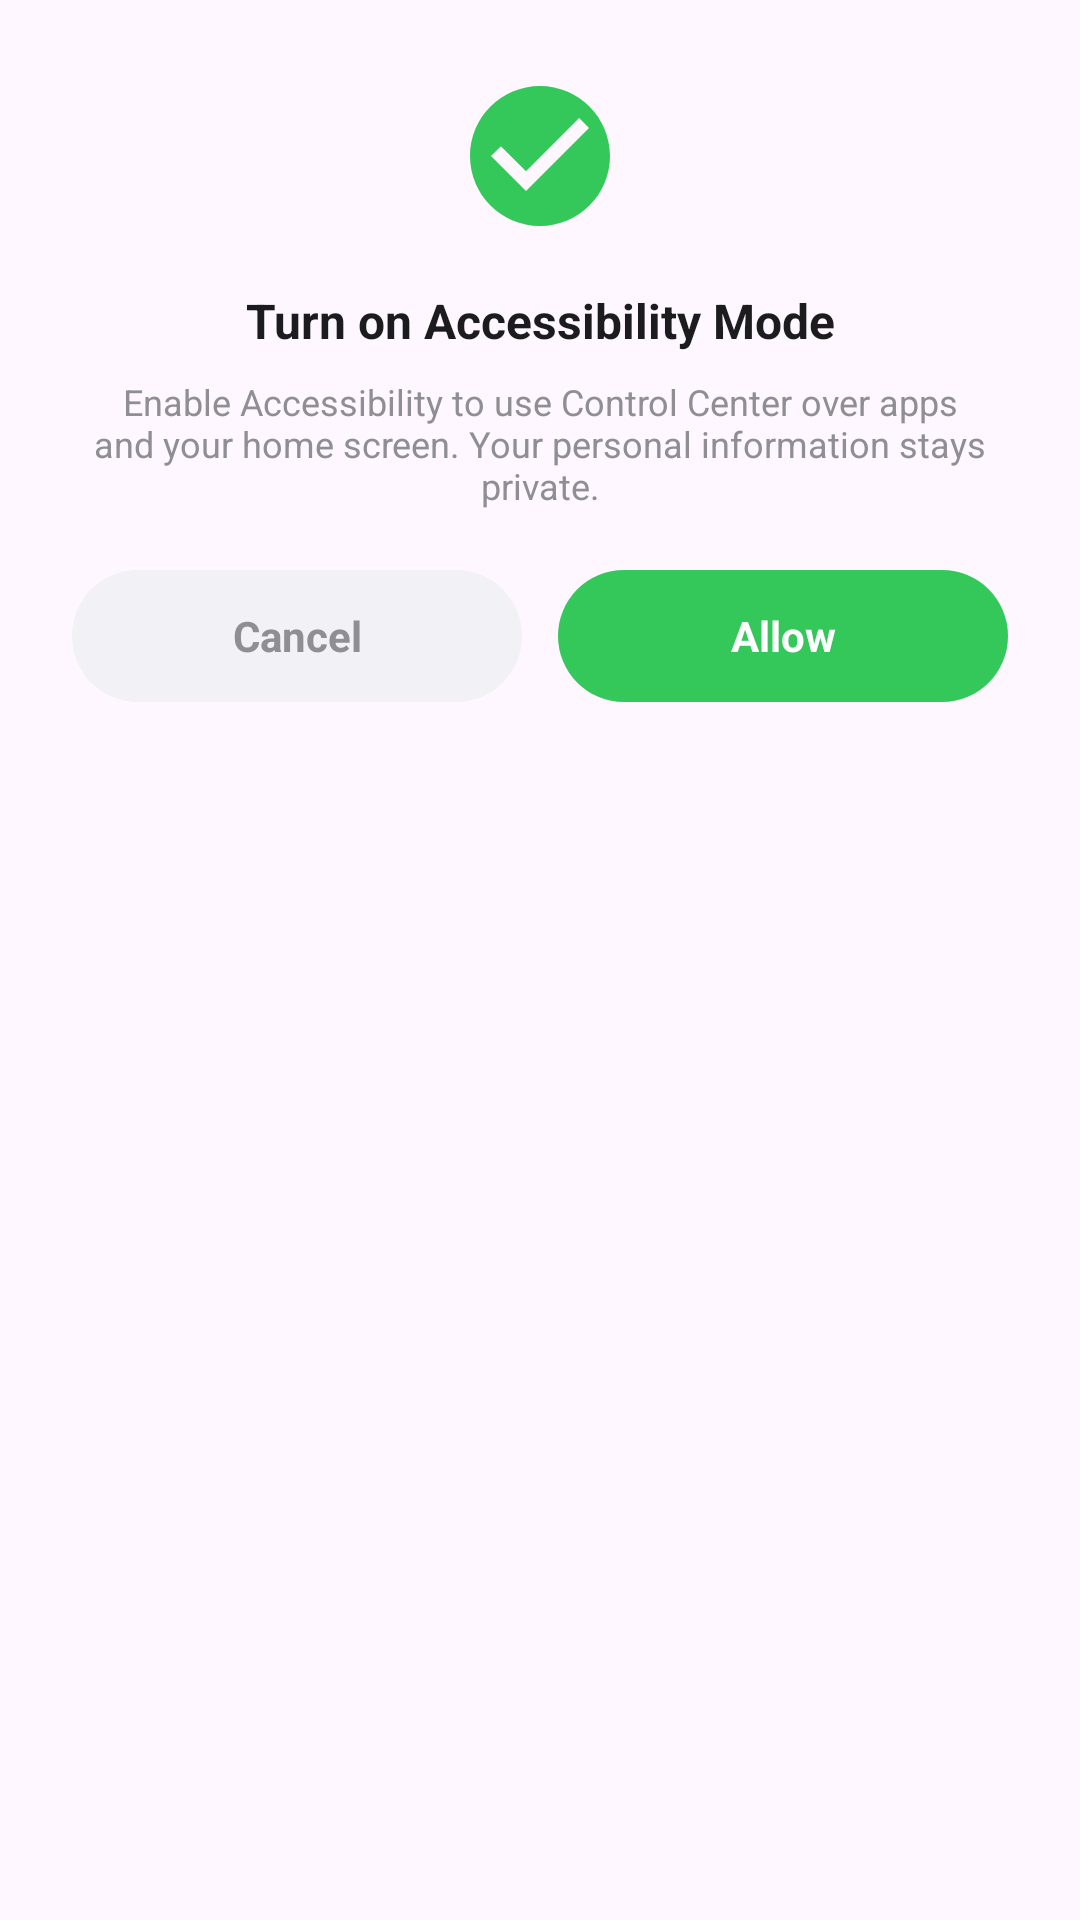

Where to tap for icons on this 1080 × 1920 app screen, as point (x, y):
check circle: point (540, 156)
